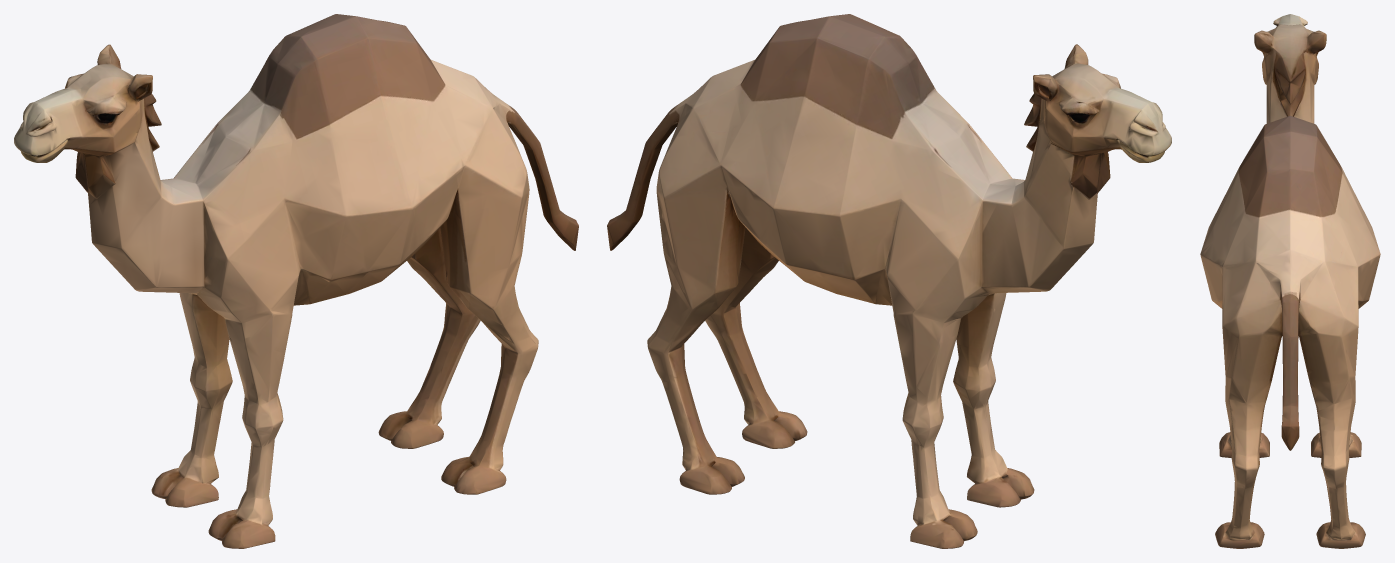
The model's file is camel.glb.
3 views of the same model, side by side, from view 1: azimuth 30°, elevation 25°; view 2: azimuth 150°, elevation 25°; view 3: azimuth 270°, elevation 25° (orthographic). The views are drawn at different scales.
Parts seen in each view (by area): view 1: node_0; view 2: node_0; view 3: node_0.
Boxes of the visible parts, <box> form: node_0: <box>14,14,578,548</box>; node_0: <box>607,14,1171,548</box>; node_0: <box>1200,14,1380,548</box>.
Bounding box in the file's own units: 1 × 0.8256 × 0.3481.
Materials: 1 (1 with a texture image).
